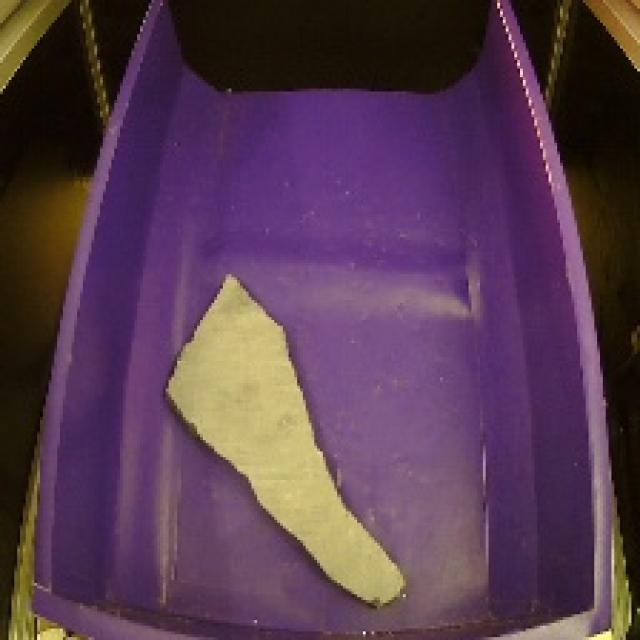china: (147, 260, 418, 615)
